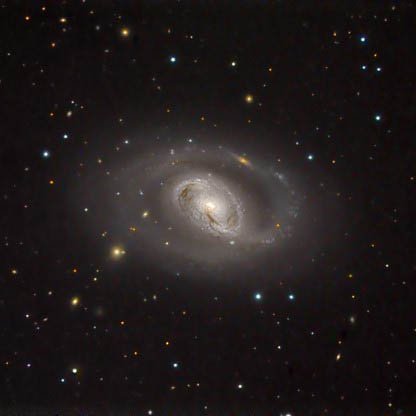Messier 96: (62, 115, 359, 298)
